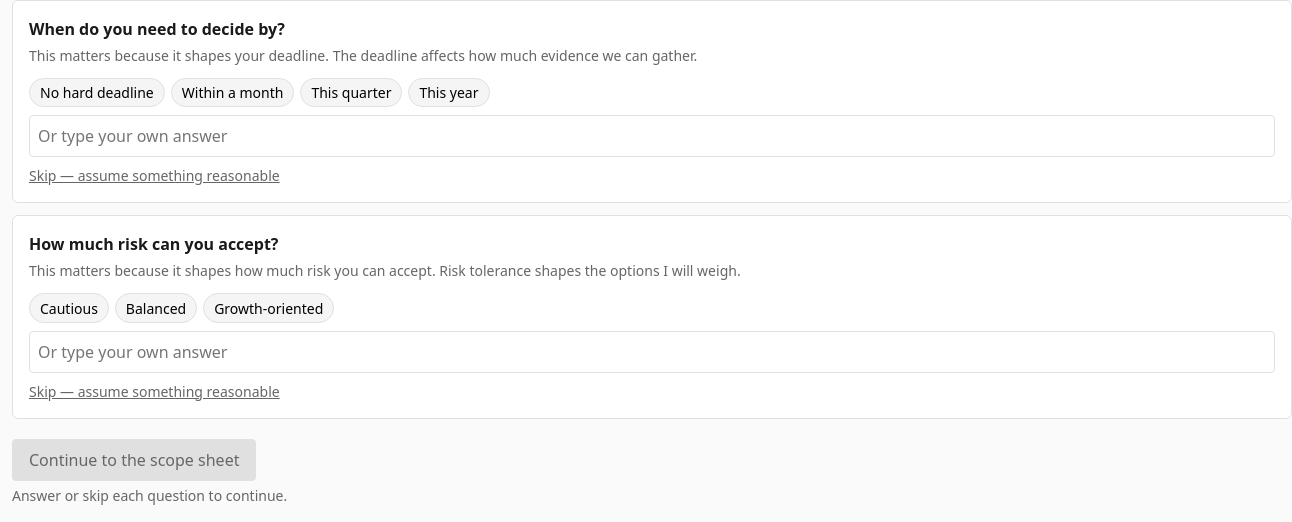
Test: InterviewCards › shows the declared-assumption label when a question is skipped
Click the button "Skip — assume something reasonable" below "When do you need to decide by?".
click(154, 176)  # box [29,165,280,186]
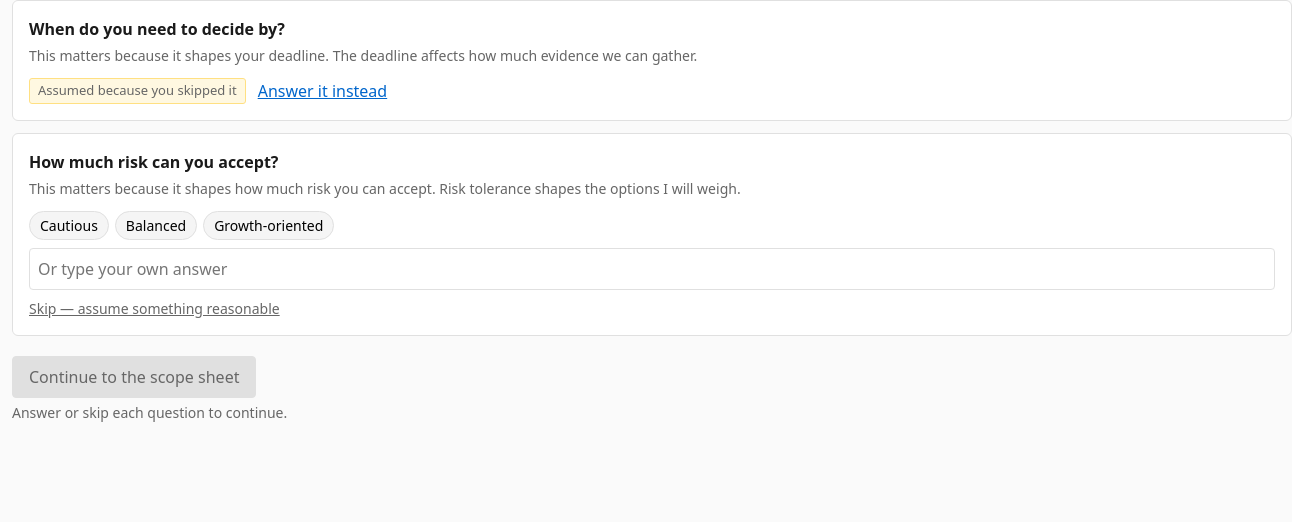
Now the text "Assumed because you skipped it" is shown, box [29,78,246,104]
Now the number of buttons "Skip — assume something reasonable" is 1, box [29,298,280,319]
